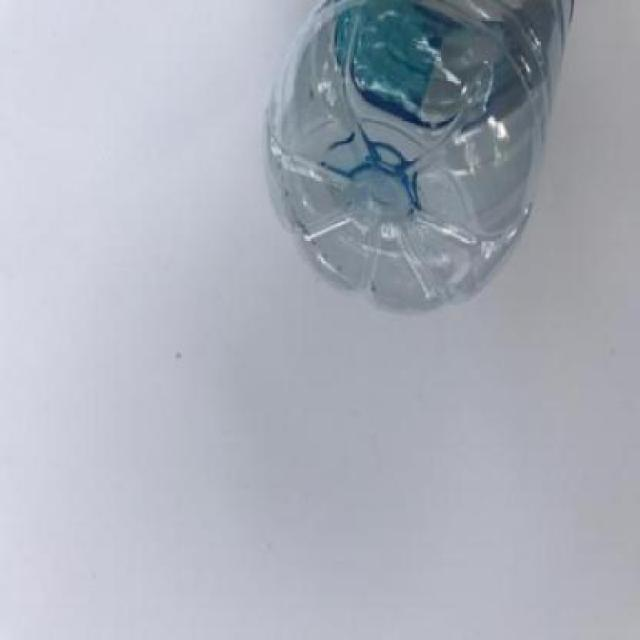PLASTIC: (261, 1, 574, 317)
